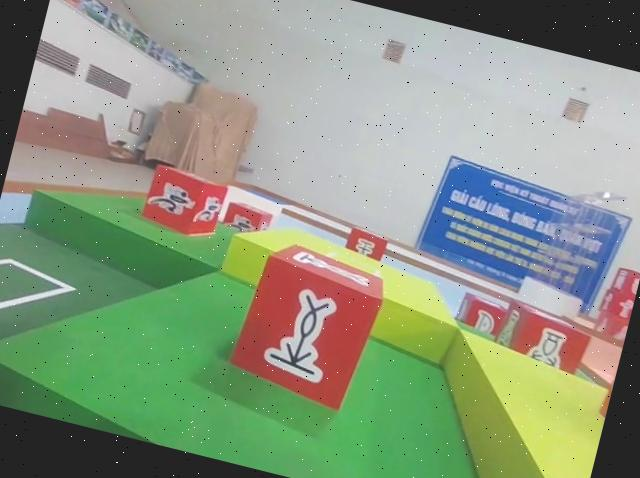R1: (141, 161, 230, 245), (218, 200, 275, 241)
R2 Real: (226, 234, 392, 422), (488, 294, 598, 382), (449, 288, 509, 344)
